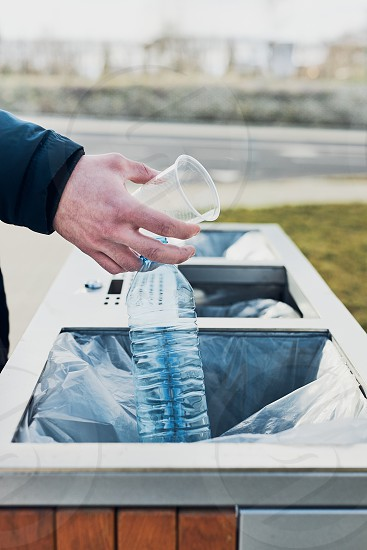plastic_bottle: (87, 169, 305, 473)
